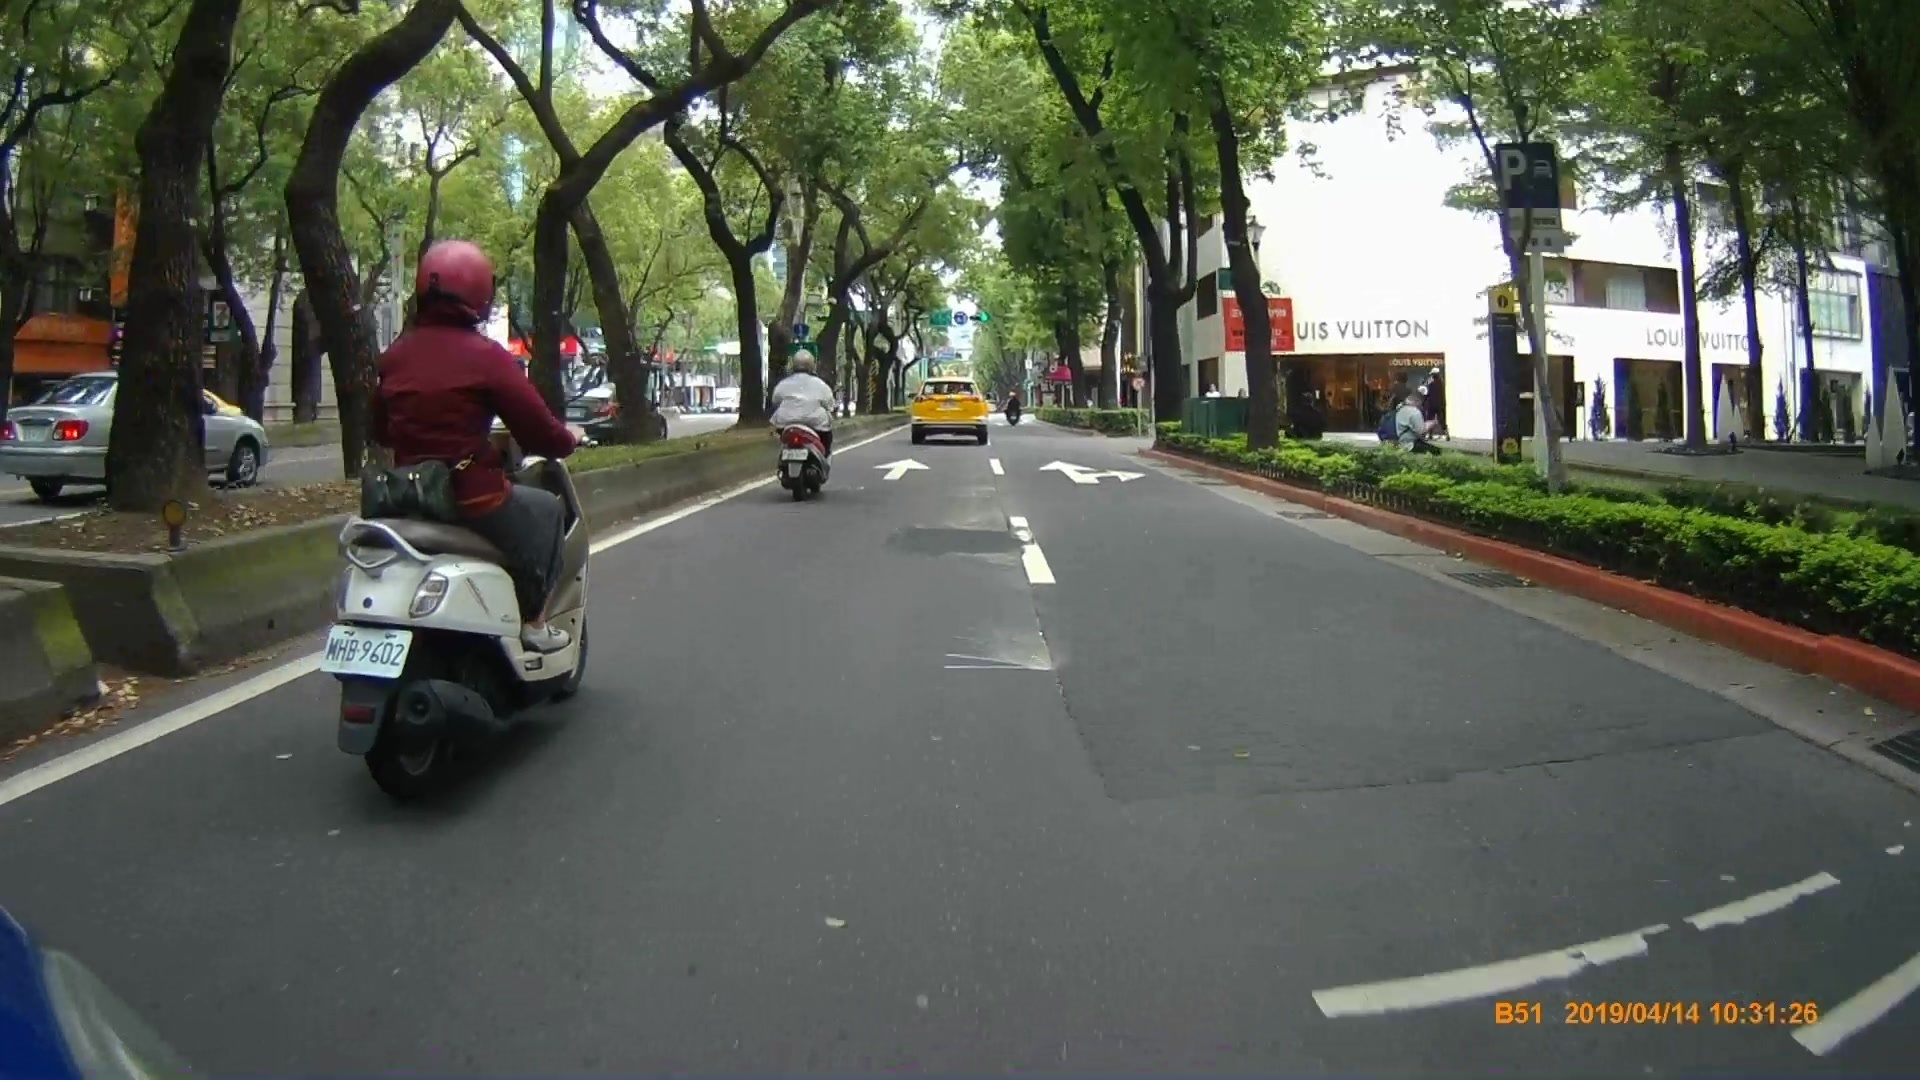License_plate: (320, 620, 410, 682), (778, 446, 810, 462)
